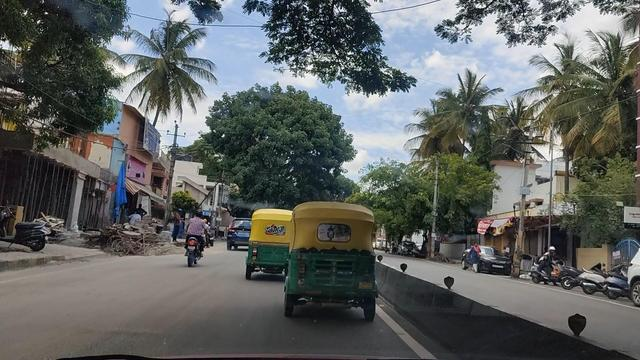LMV: (297, 194, 382, 316), (250, 213, 296, 279), (186, 199, 207, 271)
RoadDamages: (92, 298, 196, 360)
